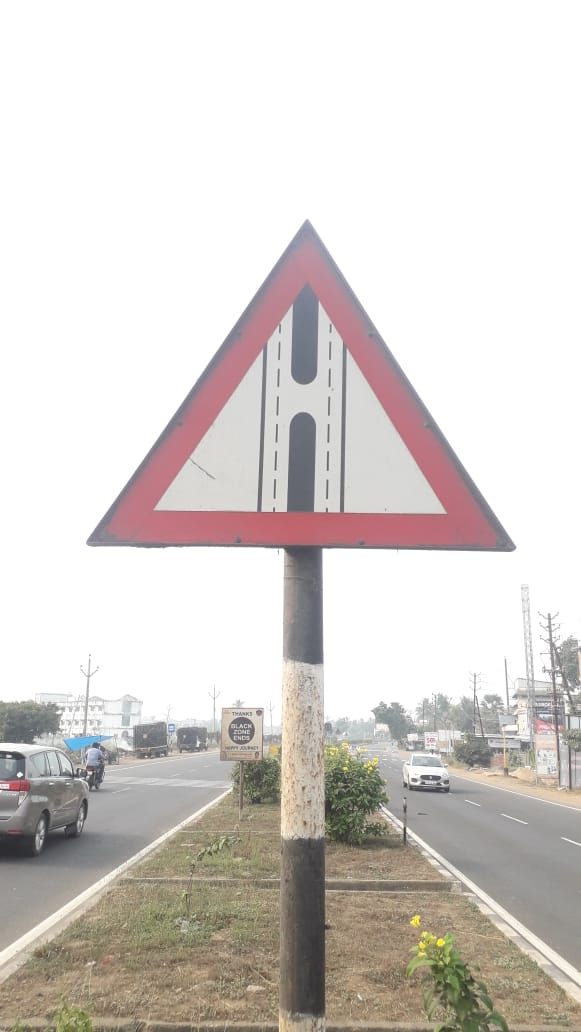highway go straight: (71, 192, 554, 588)
